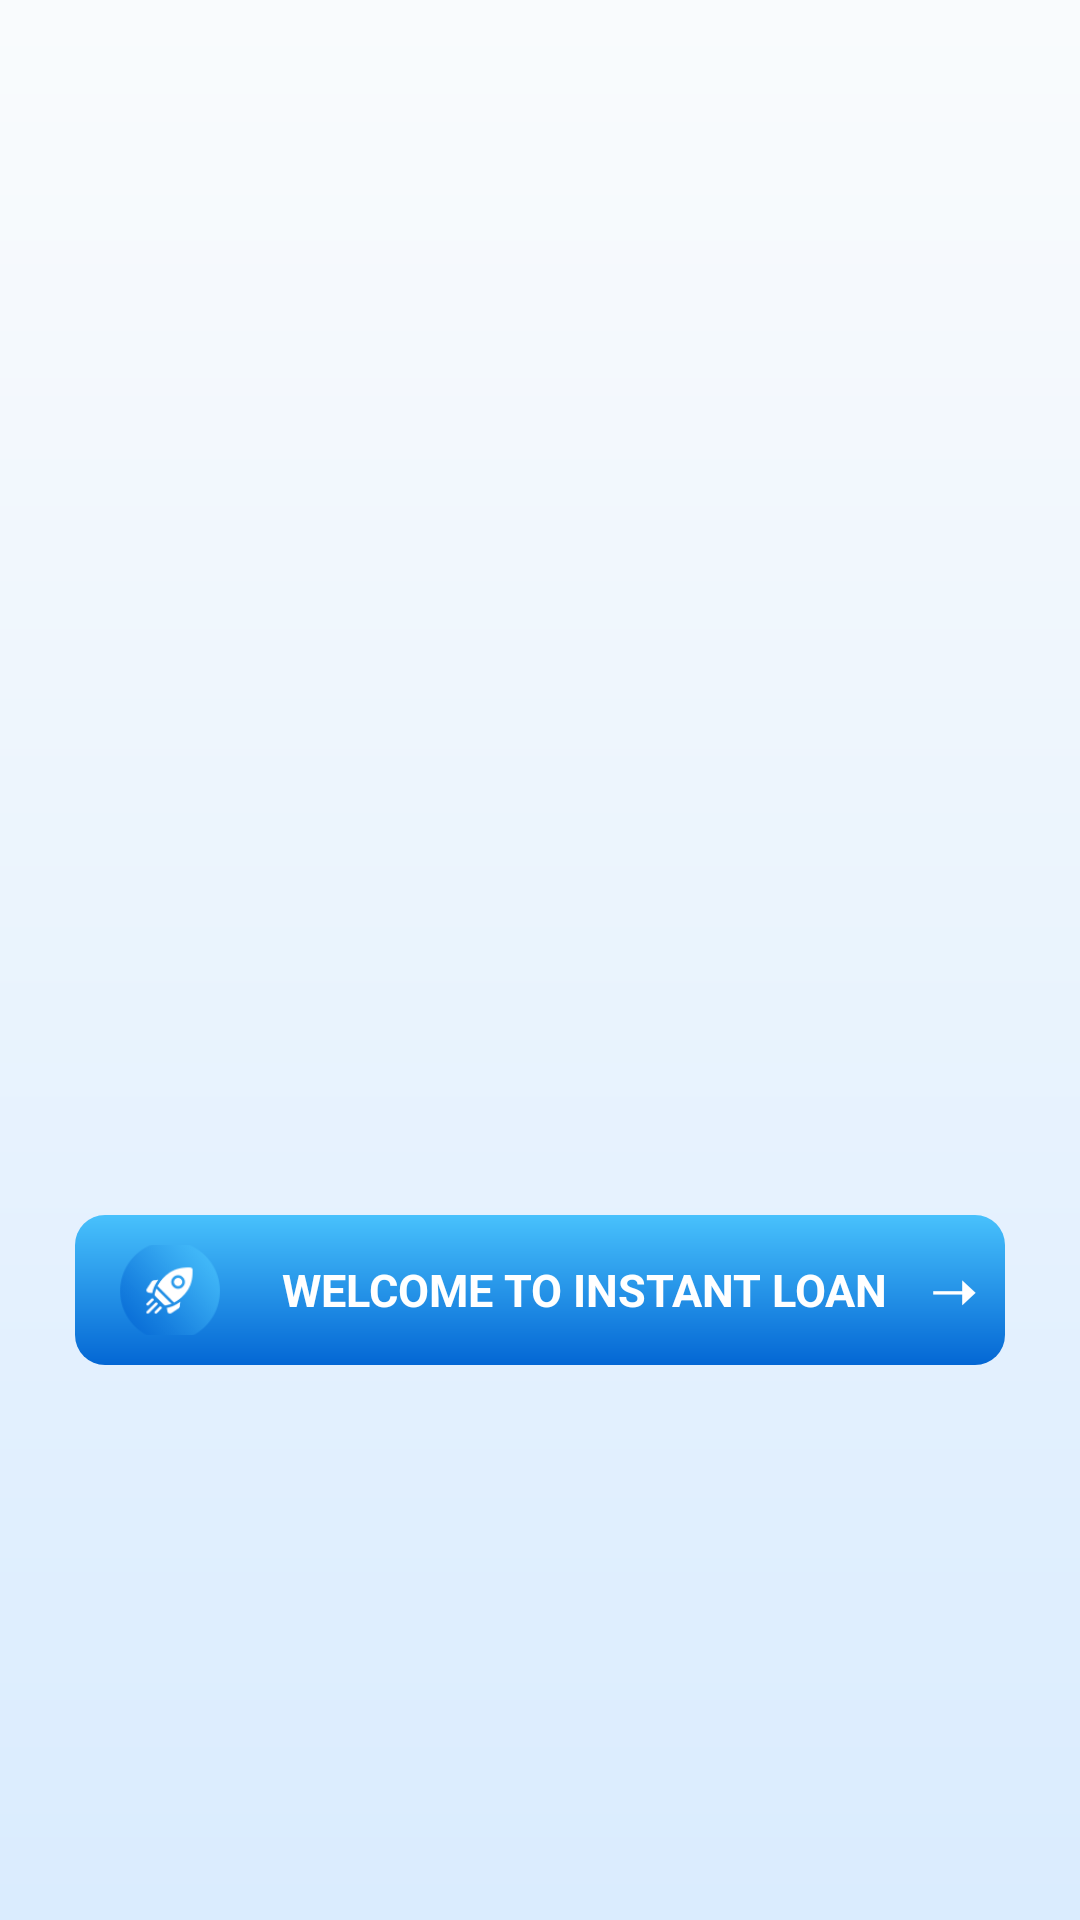

Named icons in this screenshot (1080 x 1920) and their centers, [x,y]:
start: [169,1290]
